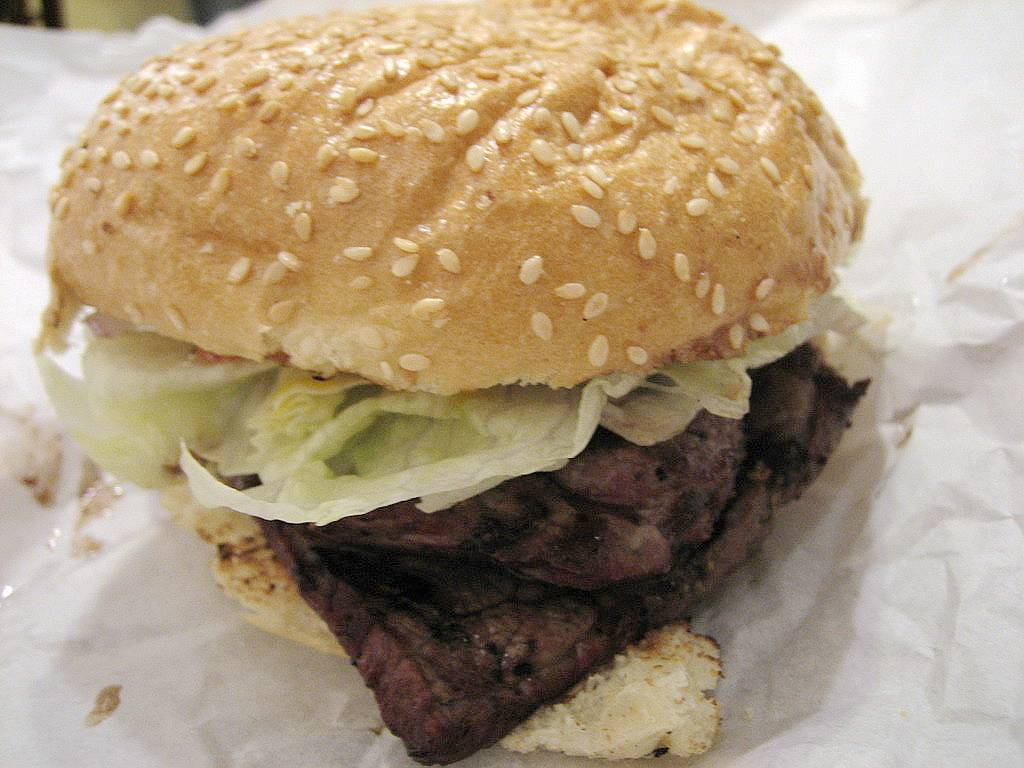Hamburger: (24, 0, 888, 767)
